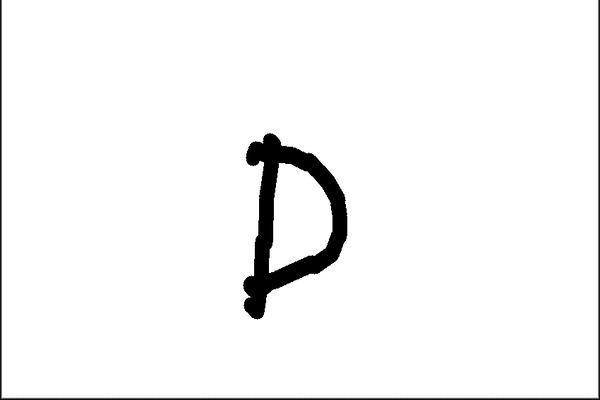D: (234, 127, 356, 319)
